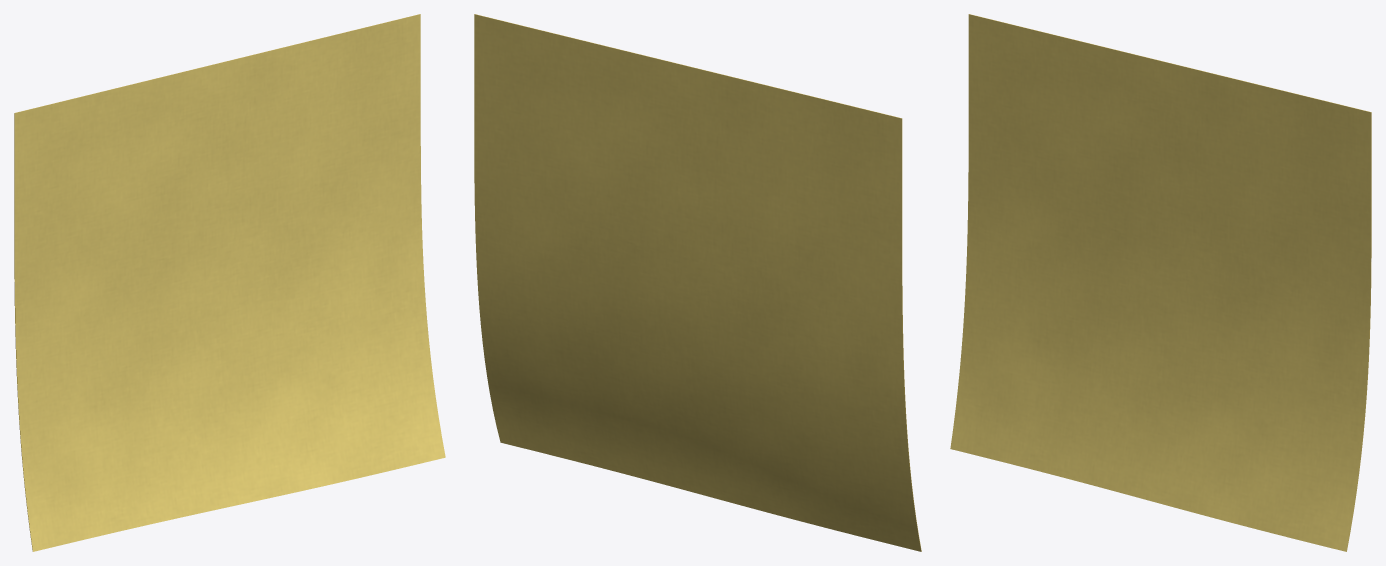
The model's file is sticky-note.glb.
The picture shows the model from 3 angles, left to right: view 1: azimuth 30°, elevation 25°; view 2: azimuth 150°, elevation 25°; view 3: azimuth 330°, elevation 25°; orthographic projection. The views are drawn at different scales.
Parts seen in each view (by area): view 1: NoteFace, NoteEdge; view 2: NoteBack, NoteEdge; view 3: NoteFace, NoteEdge.
Boxes of the visible parts, left/top/right/bottom form: NoteFace: left=14, top=14, right=445, bottom=551; NoteEdge: left=14, top=14, right=420, bottom=551; NoteBack: left=474, top=14, right=921, bottom=551; NoteEdge: left=474, top=14, right=921, bottom=551; NoteFace: left=950, top=14, right=1371, bottom=551; NoteEdge: left=969, top=14, right=1371, bottom=551.
Size of the model in its own units: 0.076 by 0.076 by 0.00822.
Materials: 3 (2 with a texture image).
